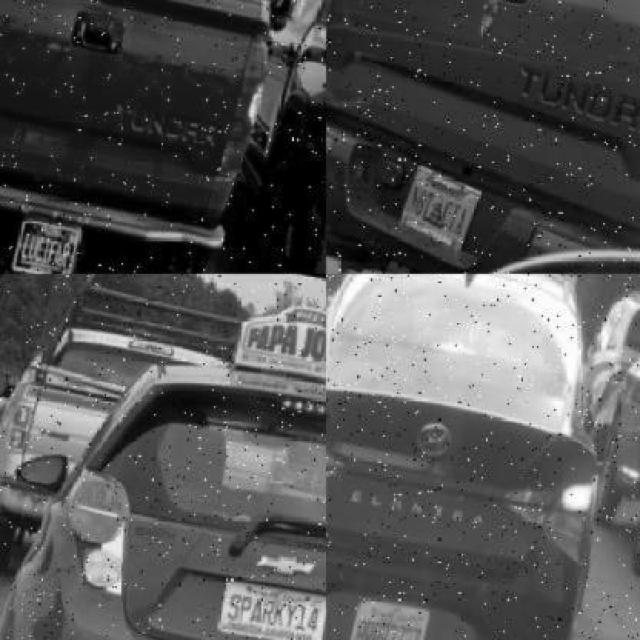licenseplate: (397, 163, 488, 249), (220, 576, 333, 640), (15, 216, 84, 280), (353, 595, 435, 640)
